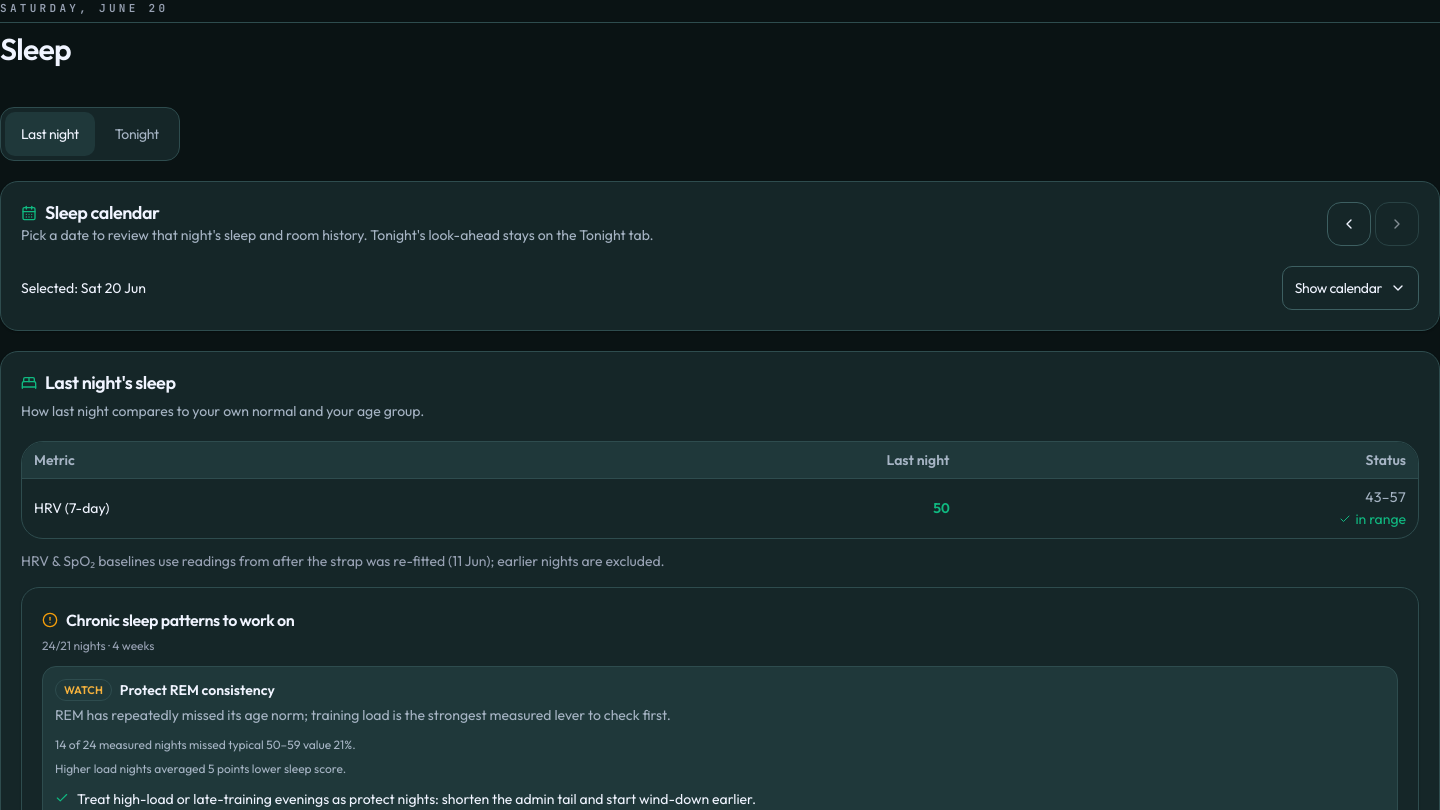
Test: SleepPage › switches to the Tonight view with breathwork context and a link to Climate
Expected: the heading "Last night's sleep" is shown, [21, 371, 176, 394]
Click the tab "Tonight".
click(137, 134)  # box [99, 112, 175, 156]
(page scrolled)
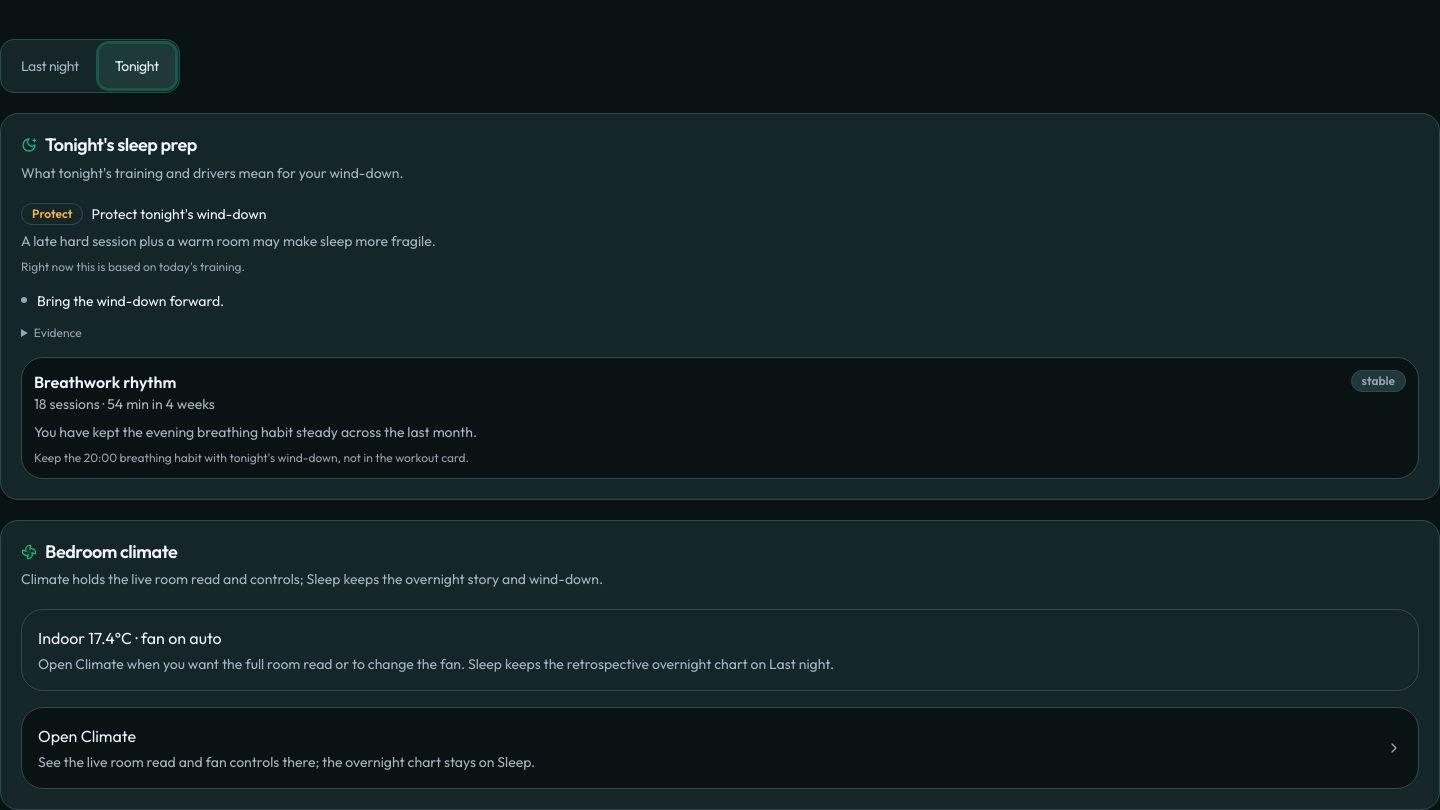
Expected: the text "Protect tonight's wind-down" is shown, [91, 204, 266, 224]
Expected: the text "late hard session" is shown, [21, 232, 436, 250]
Expected: the text "Right now this is based on today's training." is shown, [21, 258, 245, 274]
